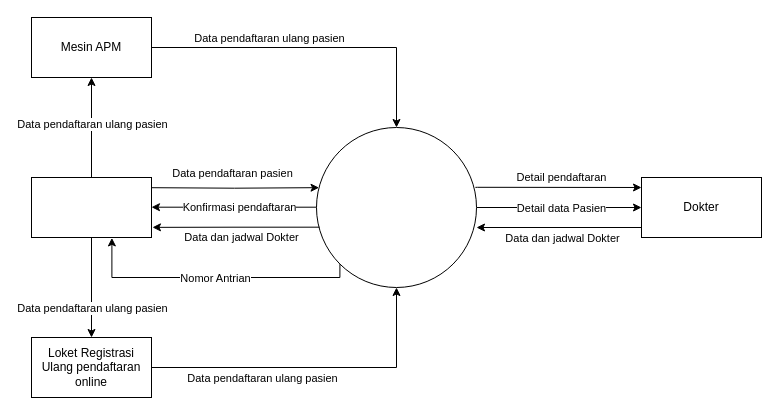
This 779x415 diagram has some shape labels left out. Each missing label, with the centre of its shape:
"Pasien" goes at [91,207].
"Sistem KlinikGo" goes at [396,207].
